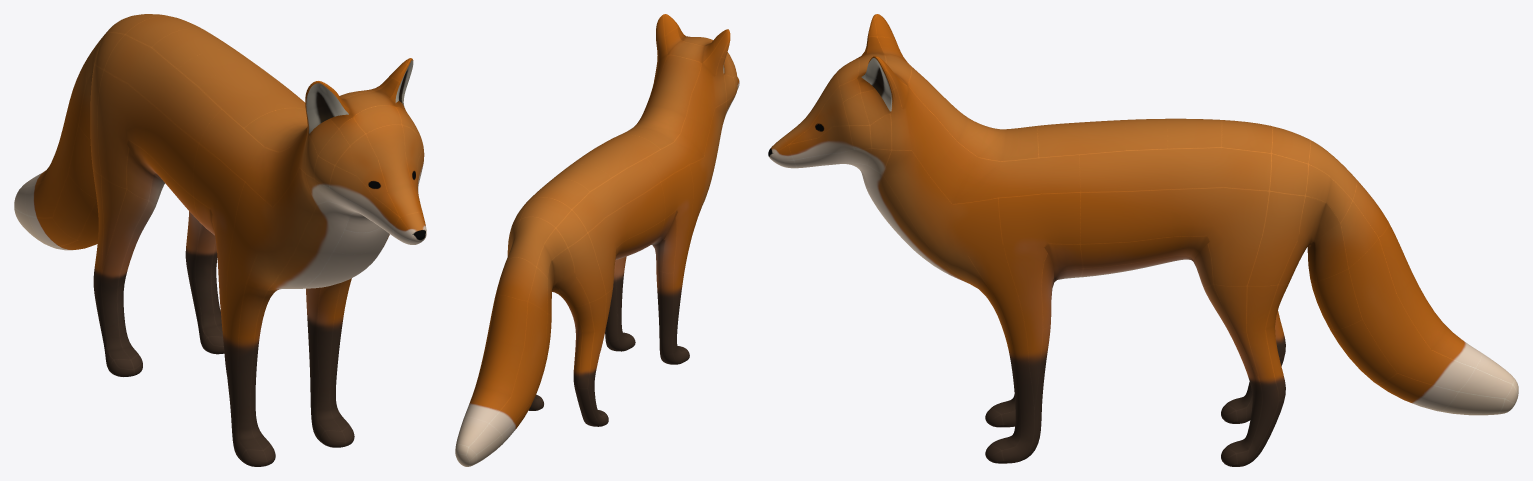
Rendered from Fox.obj.
The picture shows the model from 3 angles, left to right: view 1: azimuth 30°, elevation 25°; view 2: azimuth 150°, elevation 25°; view 3: azimuth 270°, elevation 25°; orthographic projection. The views are drawn at different scales.
Parts seen in each view (by area): view 1: Default; view 2: Default; view 3: Default.
Part boxes in pixels (x1,y1,x2,y2): Default: (14, 14, 426, 466); Default: (455, 14, 739, 466); Default: (768, 14, 1518, 466).
Size of the model in its own units: 0.151 by 0.4723 by 0.792.
Materials: 1 (1 with a texture image).
